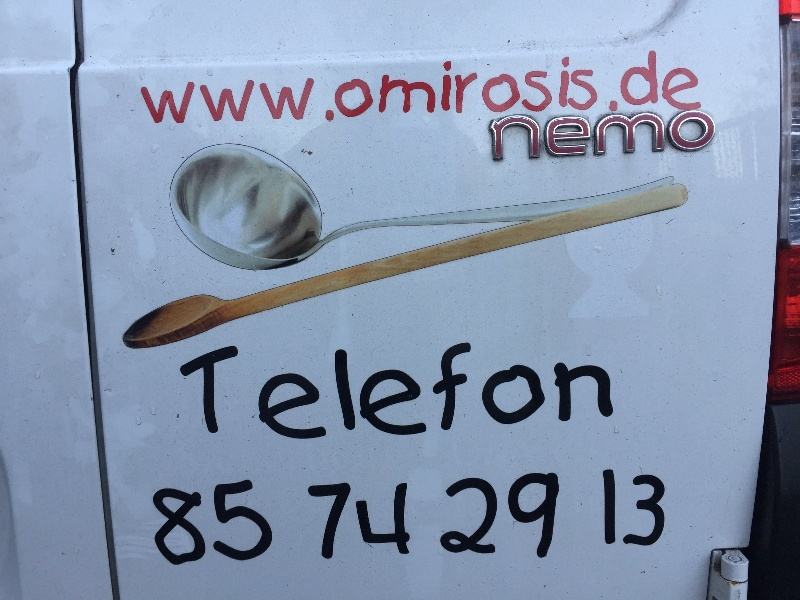text: (193, 339, 208, 458), (209, 339, 224, 458), (225, 339, 240, 458), (241, 339, 256, 458), (257, 339, 272, 458), (273, 339, 288, 458), (289, 339, 304, 458), (305, 339, 320, 458), (321, 339, 336, 458), (337, 339, 352, 458), (353, 339, 368, 458), (369, 339, 384, 458), (385, 339, 400, 458), (401, 339, 416, 458), (417, 339, 432, 458), (433, 339, 448, 458), (449, 339, 464, 458), (465, 339, 480, 458), (481, 339, 496, 458), (497, 339, 512, 458), (513, 339, 528, 458), (529, 339, 544, 458), (545, 339, 560, 458), (561, 339, 576, 458), (577, 339, 592, 458), (593, 339, 608, 458), (178, 339, 192, 458), (161, 466, 176, 571), (177, 466, 192, 571), (193, 466, 208, 571), (209, 466, 224, 571), (225, 466, 240, 571), (241, 466, 256, 571), (257, 466, 272, 571), (273, 466, 288, 571), (289, 466, 304, 571), (305, 466, 320, 571), (321, 466, 336, 571), (337, 466, 352, 571), (353, 466, 368, 571), (369, 466, 384, 571), (385, 466, 400, 571), (401, 466, 416, 571), (417, 466, 432, 571), (433, 466, 448, 571), (449, 466, 464, 571), (465, 466, 480, 571), (481, 466, 496, 571), (497, 466, 512, 571), (513, 466, 528, 571), (529, 466, 544, 571), (545, 466, 560, 571), (561, 466, 576, 571), (577, 466, 592, 571), (593, 466, 608, 571), (609, 466, 624, 571), (625, 466, 640, 571), (641, 466, 656, 571), (145, 41, 160, 129), (161, 41, 176, 129), (177, 41, 192, 129), (193, 41, 208, 129), (209, 41, 224, 129), (225, 41, 240, 129), (241, 41, 256, 129), (257, 41, 272, 129), (273, 41, 288, 129), (289, 41, 304, 129), (305, 41, 320, 129), (321, 41, 336, 129), (337, 41, 352, 129), (353, 41, 368, 129), (369, 41, 384, 129), (385, 41, 400, 129), (401, 41, 416, 129), (417, 41, 432, 129), (433, 41, 448, 129), (449, 41, 464, 129), (465, 41, 480, 129), (481, 41, 496, 129), (497, 41, 512, 129), (513, 41, 528, 129), (529, 41, 544, 129), (545, 41, 560, 129), (561, 41, 576, 129), (577, 41, 592, 129), (593, 41, 608, 129), (609, 41, 624, 129), (625, 41, 640, 129), (641, 41, 656, 129), (657, 41, 672, 129), (673, 41, 688, 129), (689, 41, 704, 129), (657, 466, 667, 571), (151, 466, 160, 571), (609, 339, 616, 458), (497, 109, 512, 163), (513, 109, 528, 163), (529, 109, 544, 163), (545, 109, 560, 163), (561, 109, 576, 163), (577, 109, 592, 163), (593, 109, 608, 163), (609, 109, 624, 163), (625, 109, 640, 163), (641, 109, 656, 163), (657, 109, 672, 163), (673, 109, 688, 163), (689, 109, 704, 163), (705, 109, 717, 163), (138, 41, 144, 129), (489, 109, 496, 163), (705, 41, 706, 129)
